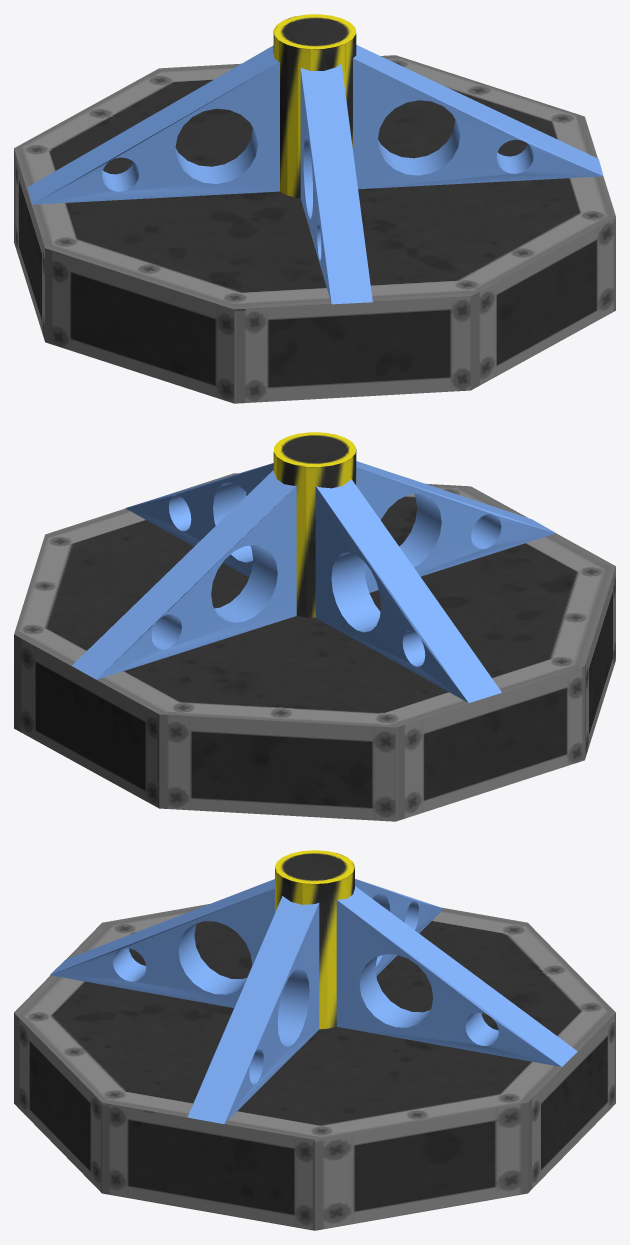
Rendered from drill_rig_foot.fbx.
The picture shows the model from 3 angles, top to bottom: view 1: azimuth 30°, elevation 25°; view 2: azimuth 150°, elevation 25°; view 3: azimuth 270°, elevation 25°; orthographic projection. The views are drawn at different scales.
Parts seen in each view (by area): view 1: Supports; view 2: Supports; view 3: Supports.
Part boxes in pixels (x1,y1,x2,y2): Supports: (14,14,615,403); Supports: (14,432,615,821); Supports: (14,850,615,1230).
Bounding box in the file's own units: 30 × 13 × 30.
